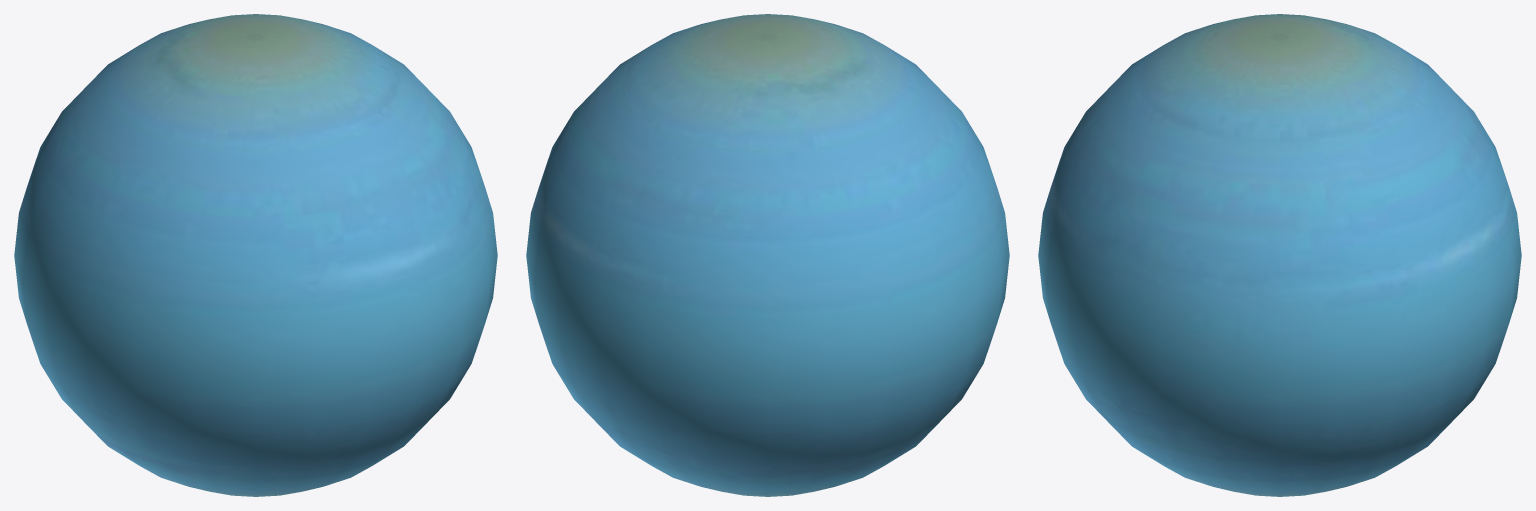
File: Uranus.dae
The picture shows the model from 3 angles, left to right: view 1: azimuth 30°, elevation 25°; view 2: azimuth 150°, elevation 25°; view 3: azimuth 270°, elevation 25°; orthographic projection.
Visible parts, largest first — view 1: SketchUp; view 2: SketchUp; view 3: SketchUp.
Boxes of the visible parts, x1,y1,x2,y2 form: SketchUp: (14,14,497,496); SketchUp: (526,14,1009,496); SketchUp: (1038,14,1521,496).
Bounding box in the file's own units: 105 × 105 × 105.
Materials: 1 (1 with a texture image).
